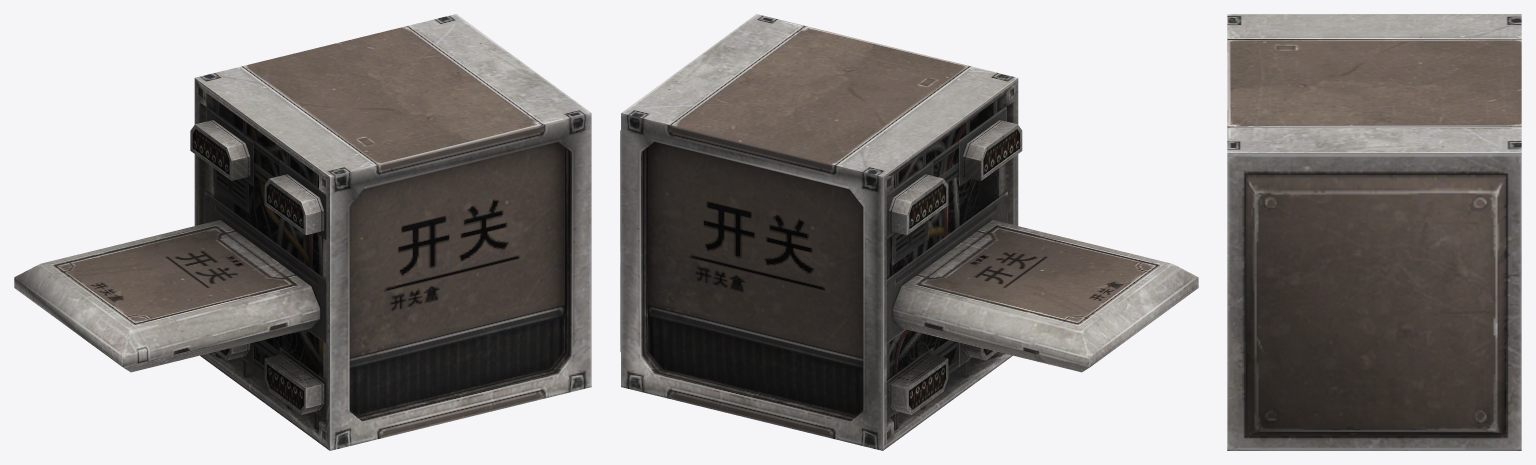
Rendered from junk_programmers_box.dae.
3 renders of one model, left to right at view 1: azimuth 30°, elevation 25°; view 2: azimuth 150°, elevation 25°; view 3: azimuth 270°, elevation 25°, orthographic. The views are drawn at different scales.
Parts seen in each view (by area): view 1: junk_programmers_box; view 2: junk_programmers_box; view 3: junk_programmers_box.
Part boxes in pixels (x1,y1,x2,y2): junk_programmers_box: (14, 14, 591, 450); junk_programmers_box: (620, 14, 1198, 450); junk_programmers_box: (1227, 14, 1521, 450).
Size of the model in its own units: 0.5366 by 0.3 by 0.2688.
